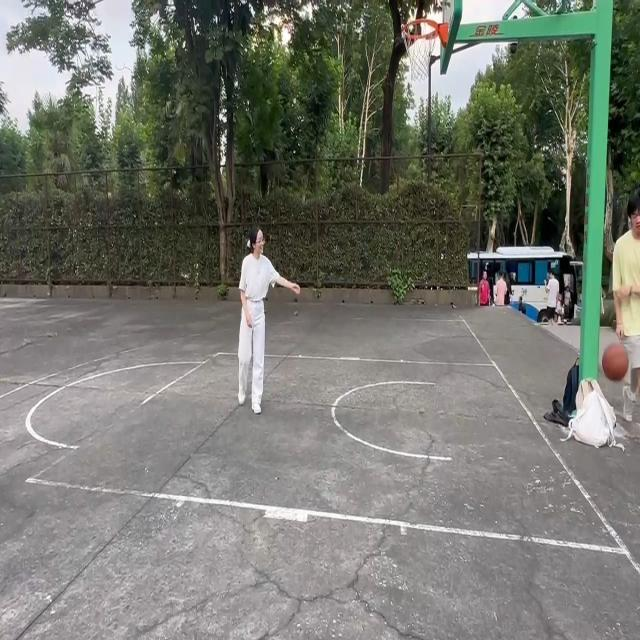basketball: (397, 20, 448, 96)
rim: (601, 340, 629, 381)
